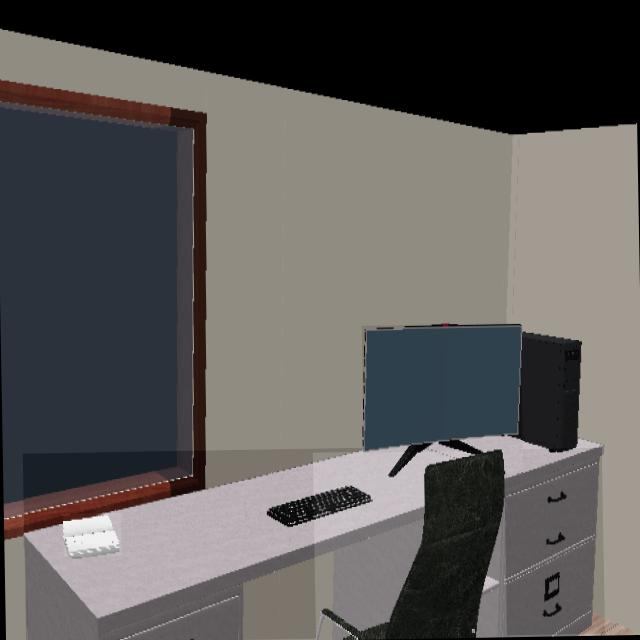book: (63, 514, 120, 556)
cabinet: (477, 447, 601, 635)
chair: (316, 450, 504, 638)
monitor: (364, 324, 520, 476)
table: (24, 447, 453, 640)
